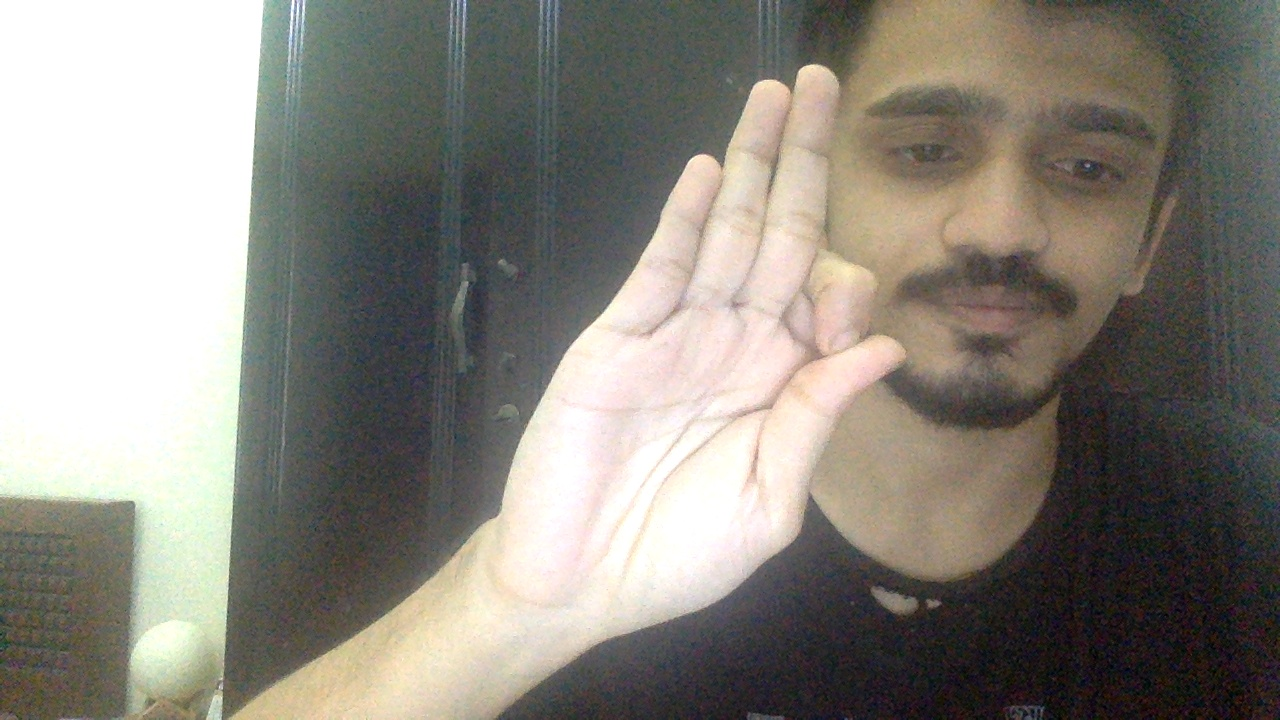perfect: (494, 62, 905, 645)
